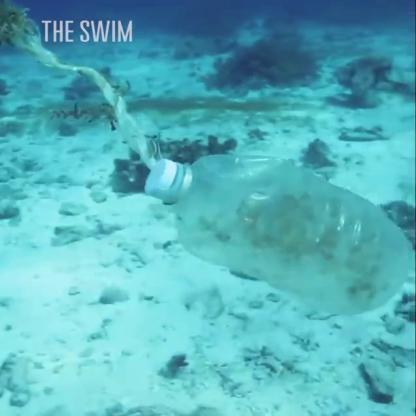Rác: (146, 145, 412, 309)
